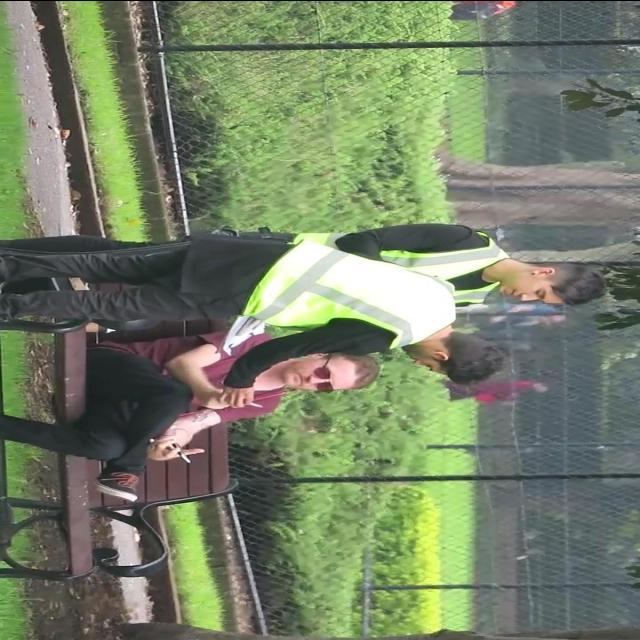jacket: (234, 241, 462, 347)
